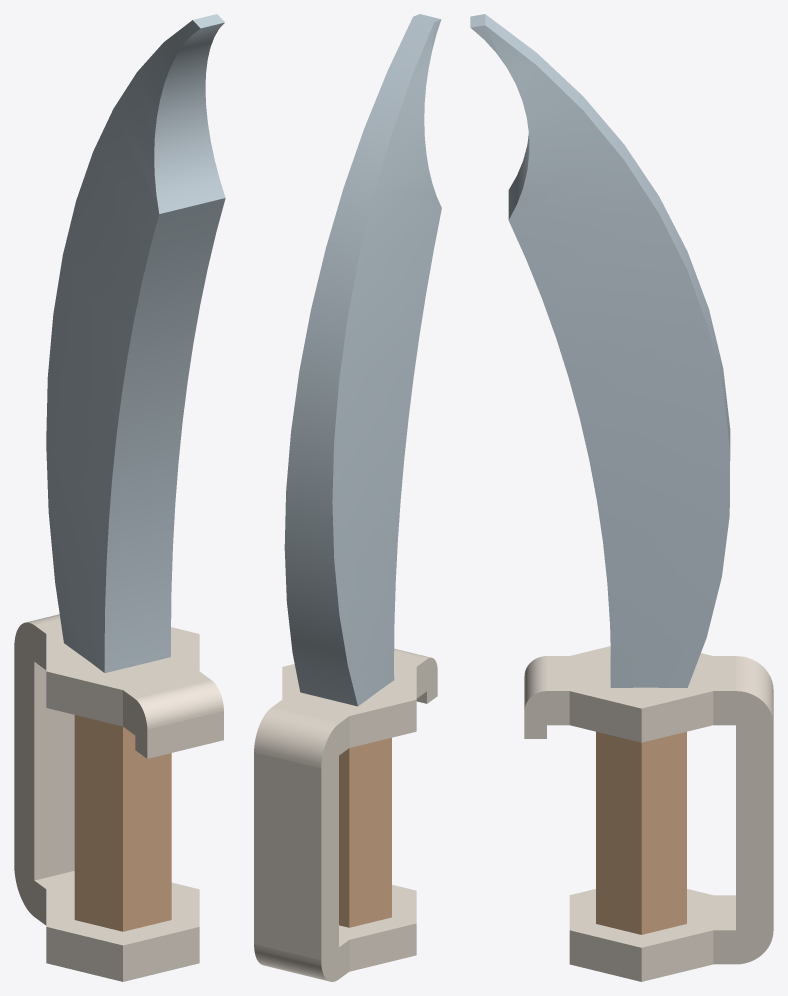
Rendered from sword_scimitar.glb.
3 renders of one model, left to right at view 1: azimuth 30°, elevation 25°; view 2: azimuth 150°, elevation 25°; view 3: azimuth 270°, elevation 25°, orthographic. The views are drawn at different scales.
Parts seen in each view (by area): view 1: sword_scimitar; view 2: sword_scimitar; view 3: sword_scimitar.
Boxes of the visible parts, x1=… form: sword_scimitar: x1=14, y1=14, x2=225, y2=981; sword_scimitar: x1=254, y1=14, x2=441, y2=981; sword_scimitar: x1=470, y1=14, x2=773, y2=981.
Bounding box in the file's own units: 0.11 × 0.6779 × 0.201.
